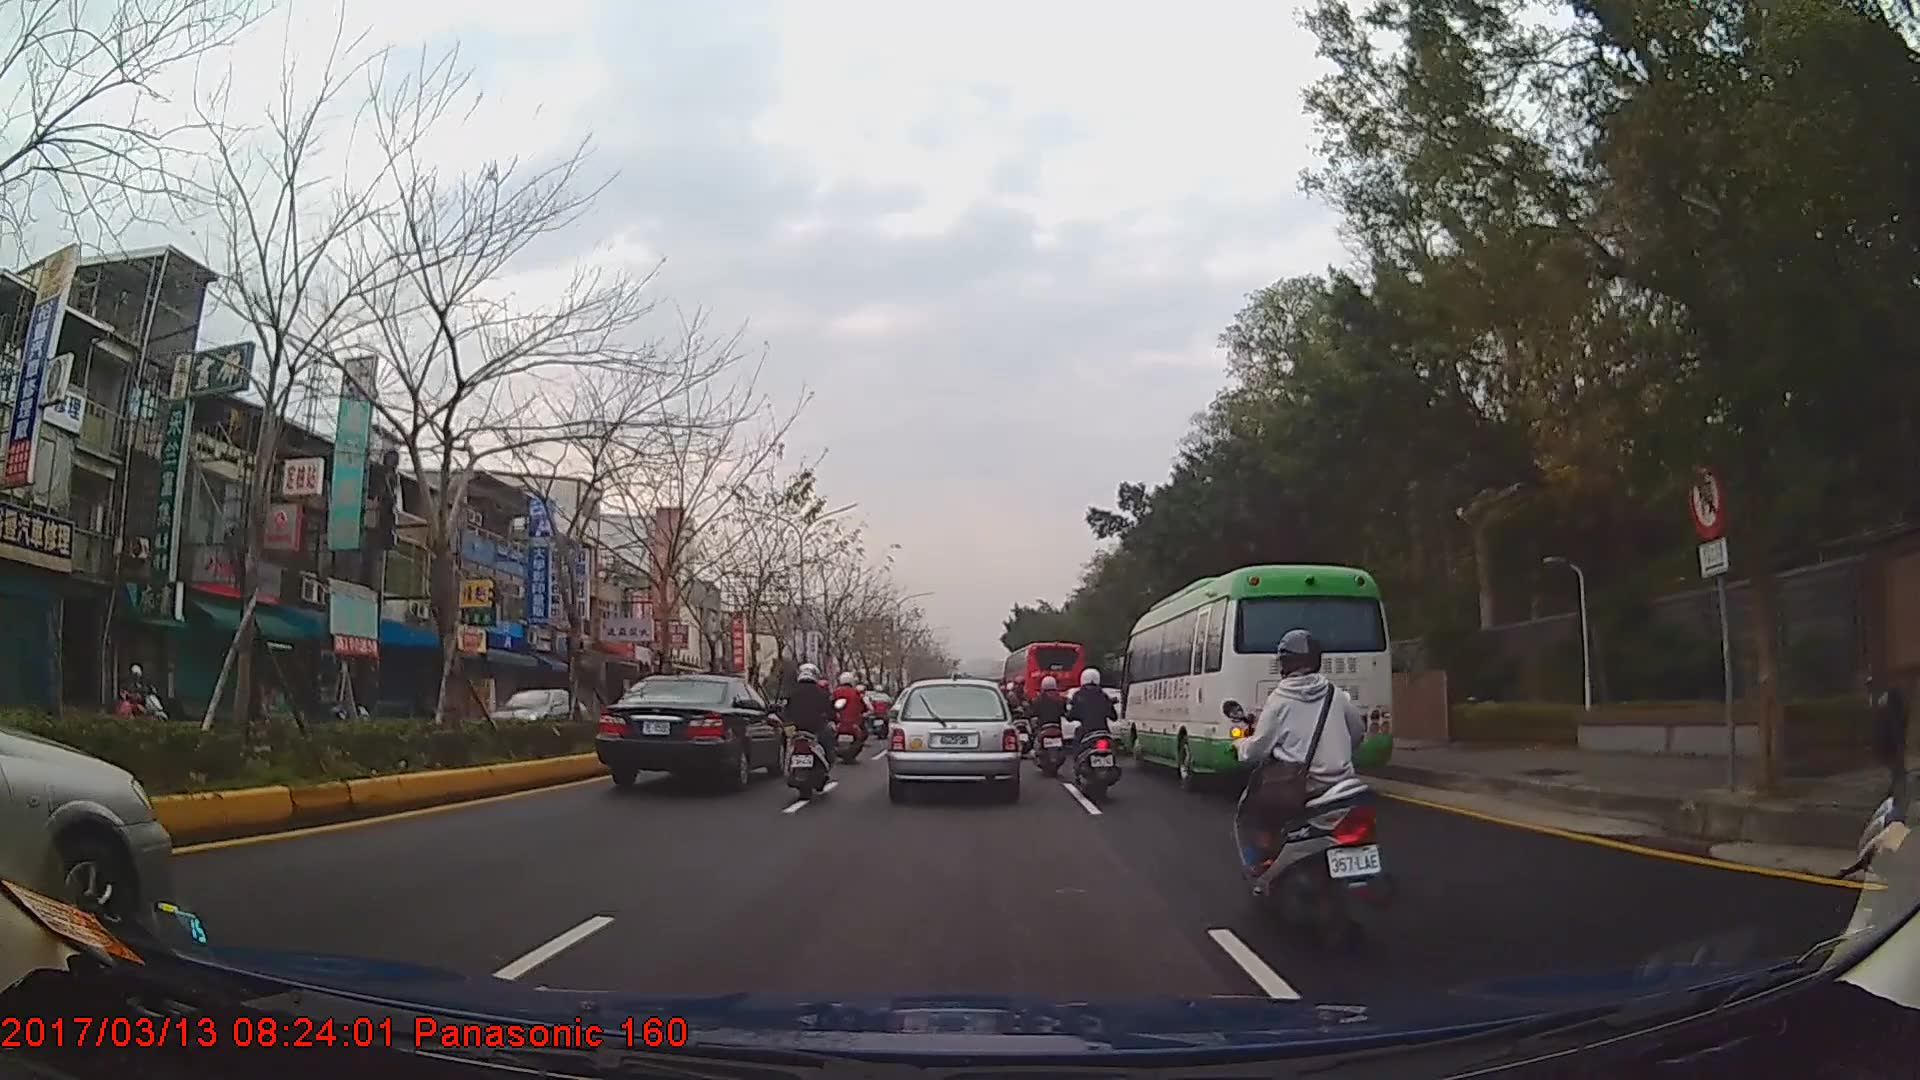rider: (1229, 631, 1392, 948), (783, 662, 846, 802), (1067, 670, 1124, 800), (1030, 673, 1072, 778), (832, 675, 868, 764), (1009, 676, 1033, 756), (848, 685, 874, 742), (871, 683, 894, 730)
vehicle: (1120, 561, 1396, 796), (593, 673, 787, 789), (887, 680, 1020, 802), (1000, 639, 1085, 735), (479, 686, 586, 746)
